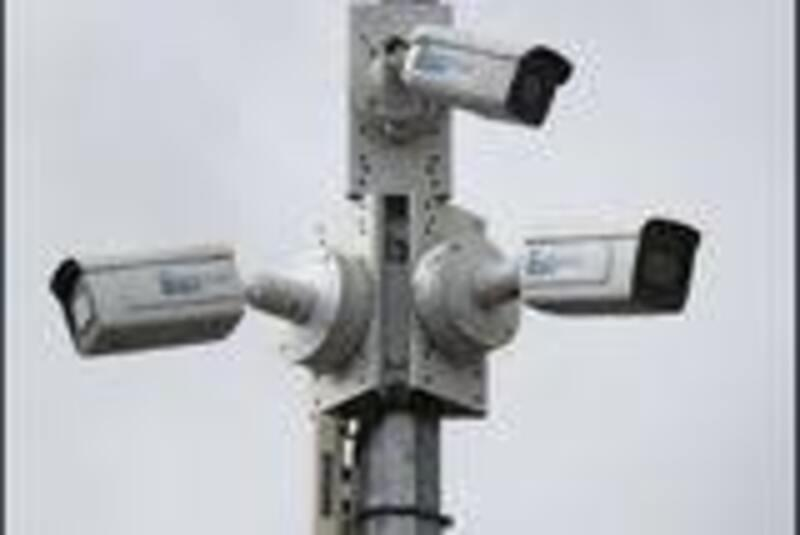bullet: (510, 199, 712, 317), (37, 247, 257, 350), (394, 22, 583, 133)
